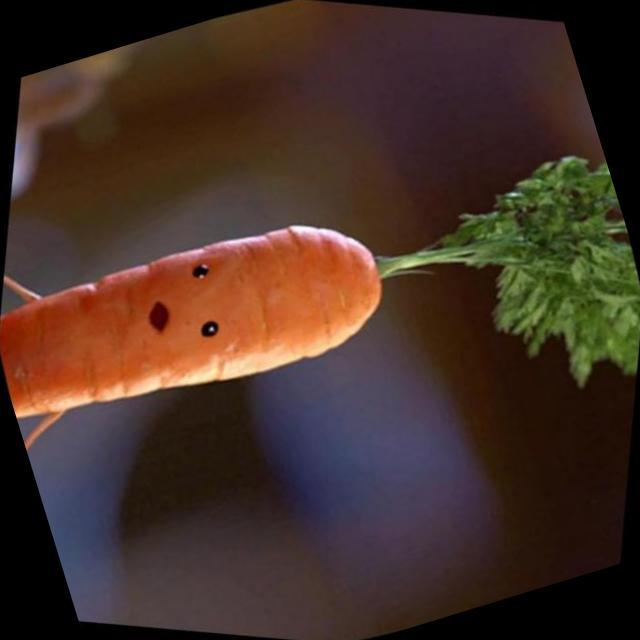carrot: (0, 40, 499, 579)
